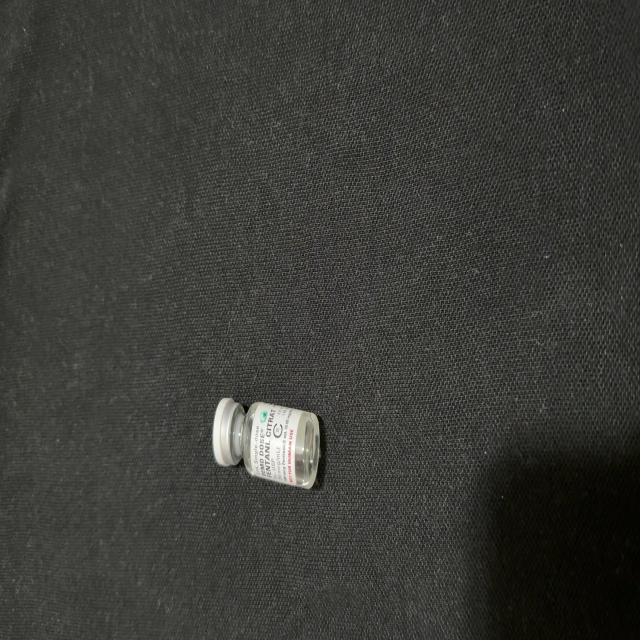fentanl_citrat: (214, 399, 322, 489)
